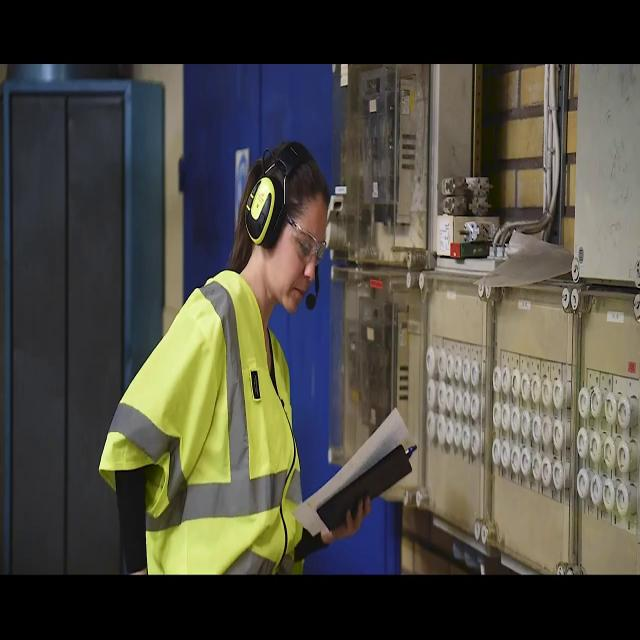earmuff: (242, 167, 284, 251)
glasses: (283, 209, 329, 273)
